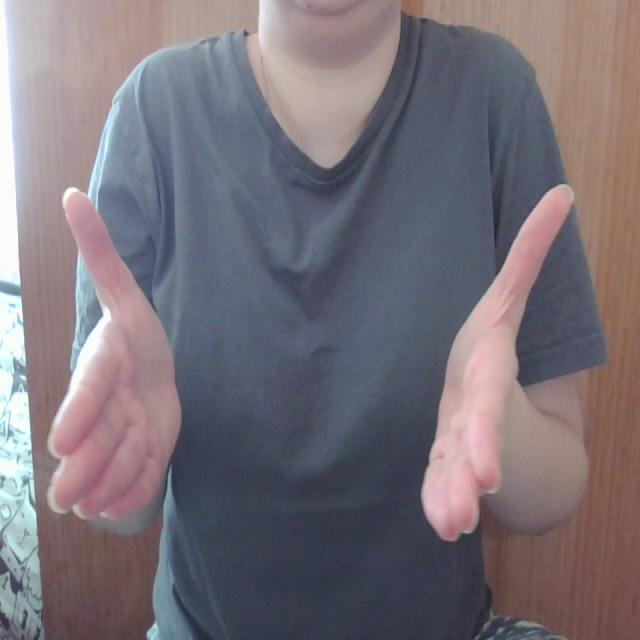Nasil: (46, 163, 583, 546)
